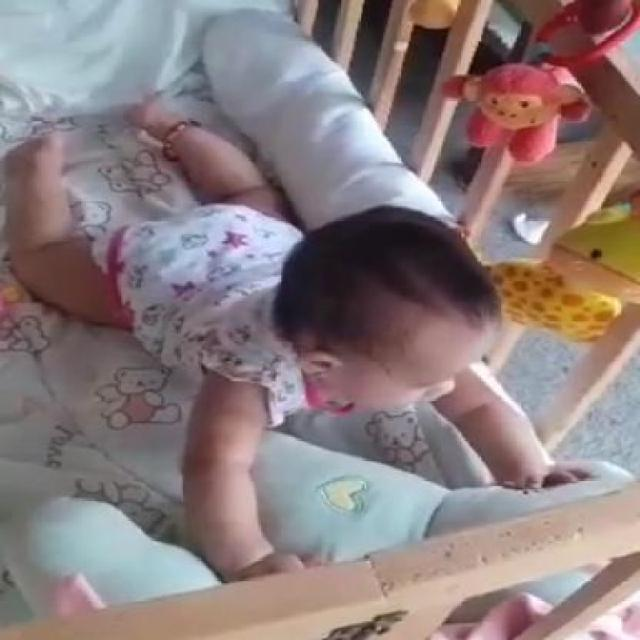non-dog: (3, 87, 599, 585)
